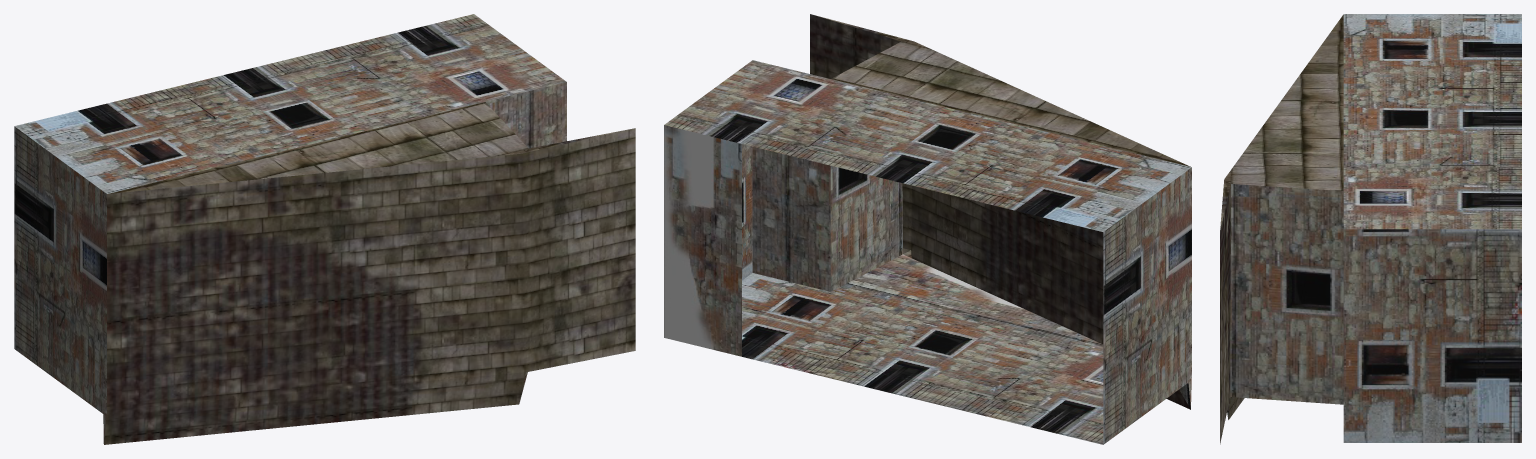
File: houseduchamp08_wtf.obj
3 renders of one model, left to right at view 1: azimuth 30°, elevation 25°; view 2: azimuth 150°, elevation 25°; view 3: azimuth 270°, elevation 25°, orthographic. The views are drawn at different scales.
Parts seen in each view (by area): view 1: group2; view 2: group2; view 3: group2.
Part boxes in pixels (bbox=[...]): group2: bbox=[14, 14, 635, 444]; group2: bbox=[664, 14, 1191, 444]; group2: bbox=[1220, 14, 1521, 444].
Size of the model in its own units: 660 by 342 by 387.
